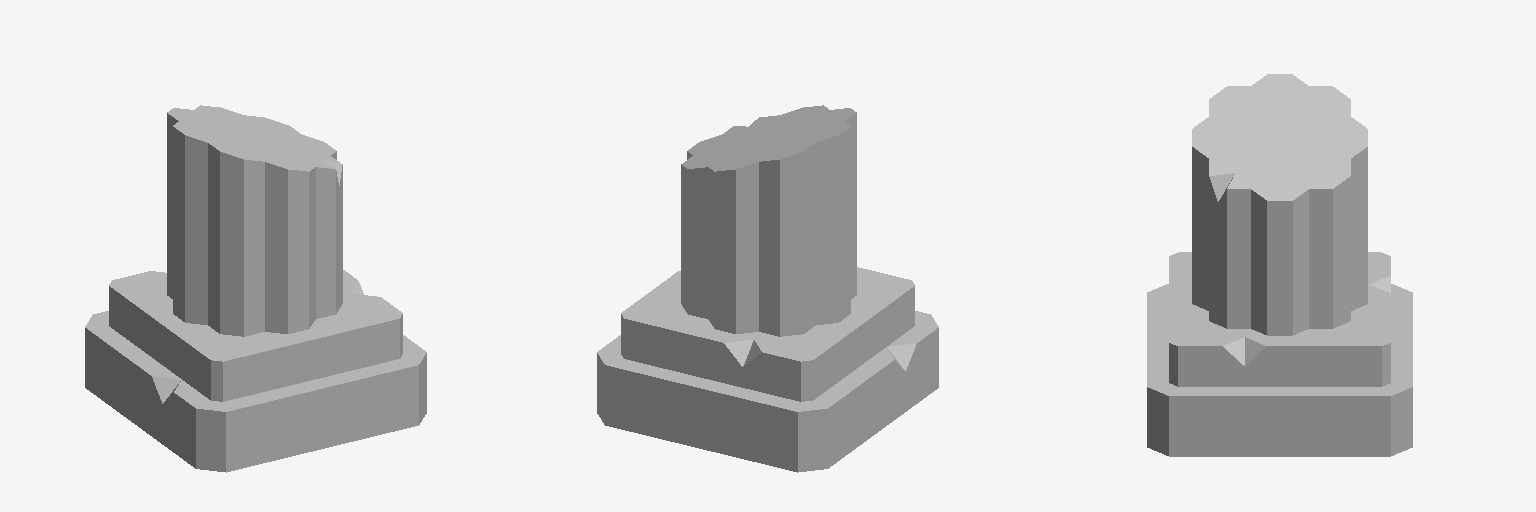
Rendered from column-damaged.obj.
3 views of the same model, side by side, from view 1: azimuth 30°, elevation 25°; view 2: azimuth 150°, elevation 25°; view 3: azimuth 270°, elevation 25° (orthographic).
Visible parts, largest first — view 1: column-damaged; view 2: column-damaged; view 3: column-damaged.
Part boxes in pixels (bbox=[...]): column-damaged: bbox=[85, 105, 426, 472]; column-damaged: bbox=[597, 105, 938, 472]; column-damaged: bbox=[1147, 74, 1412, 456].
Size of the model in its own units: 0.6 by 0.7157 by 0.6.